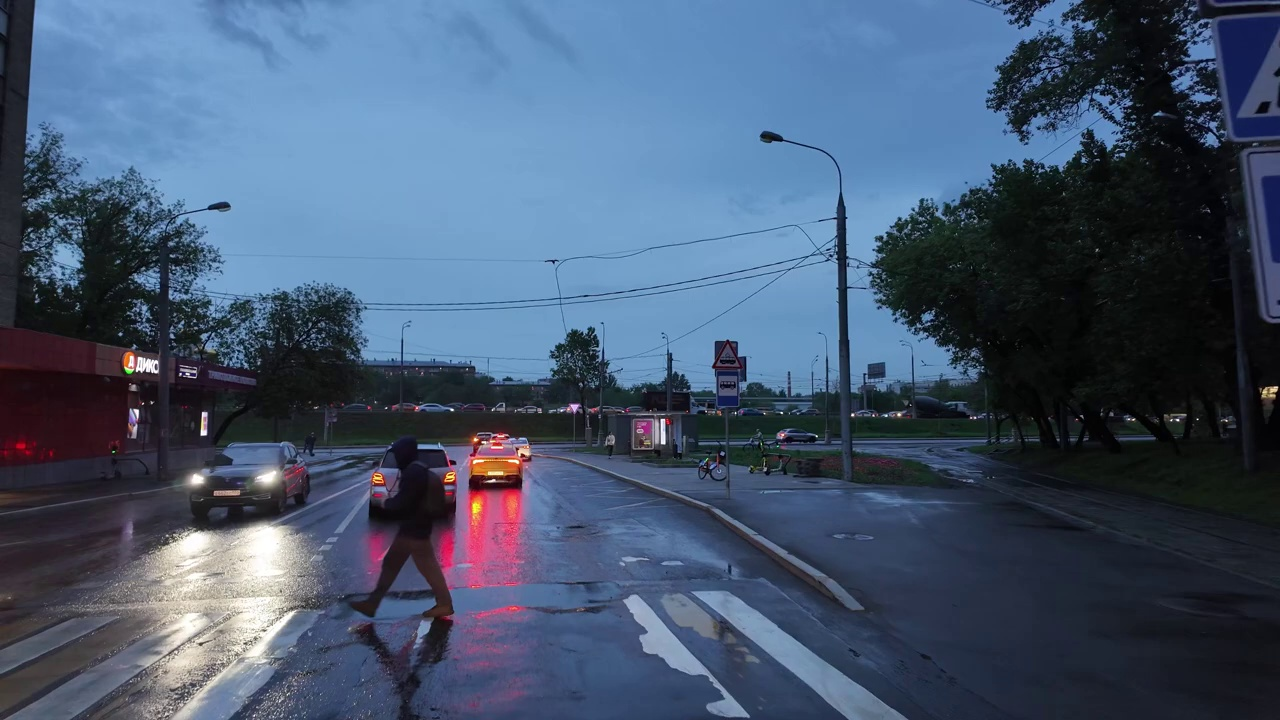apagada: (755, 124, 788, 152), (203, 195, 233, 219)
